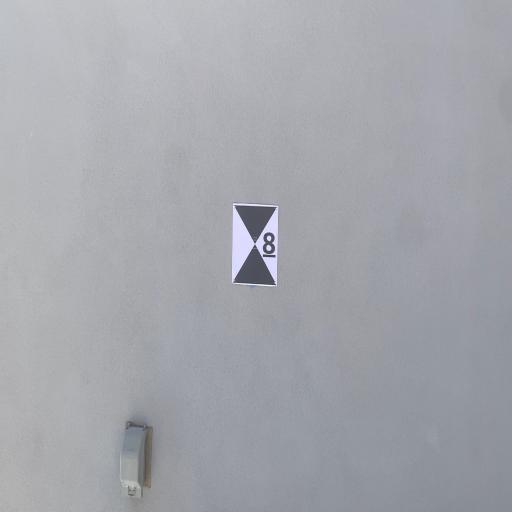target8: (232, 204, 278, 286)
